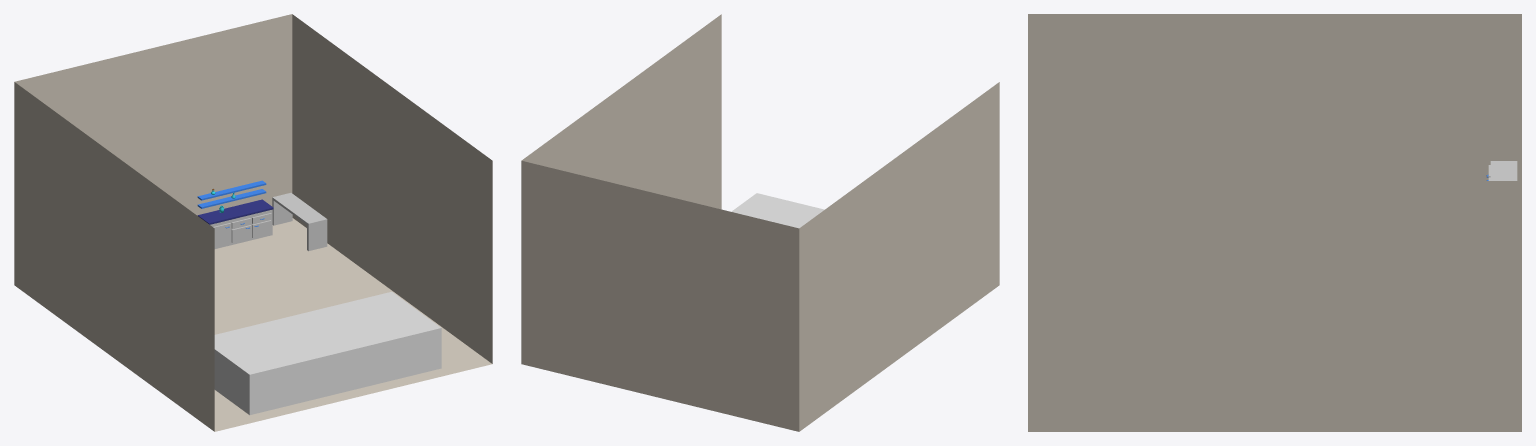
File: lab.fbx
3 views of the same model, side by side, from view 1: azimuth 30°, elevation 25°; view 2: azimuth 150°, elevation 25°; view 3: azimuth 270°, elevation 25° (orthographic). The views are drawn at different scales.
Visible parts, largest first — view 1: Cube, balcony_base, balcony_center, balcony_table; view 2: Cube, balcony_base; view 3: Cube, air_balcony.
Boxes of the visible parts, bbox=[...] form: Cube: bbox=[14, 14, 492, 431]; balcony_base: bbox=[214, 291, 441, 415]; balcony_center: bbox=[197, 180, 273, 248]; balcony_table: bbox=[272, 193, 327, 251]; Cube: bbox=[521, 14, 999, 431]; balcony_base: bbox=[731, 193, 824, 228]; Cube: bbox=[1028, 14, 1521, 431]; air_balcony: bbox=[1486, 161, 1517, 180].
Size of the model in its own units: 20000 by 14000 by 24977.
